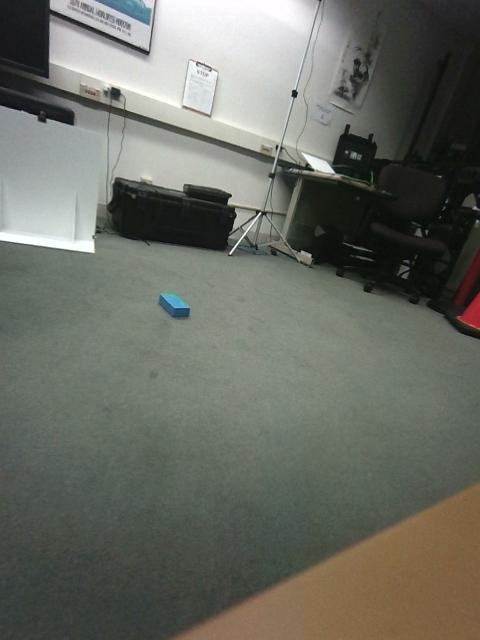block: (123, 433, 228, 529)
